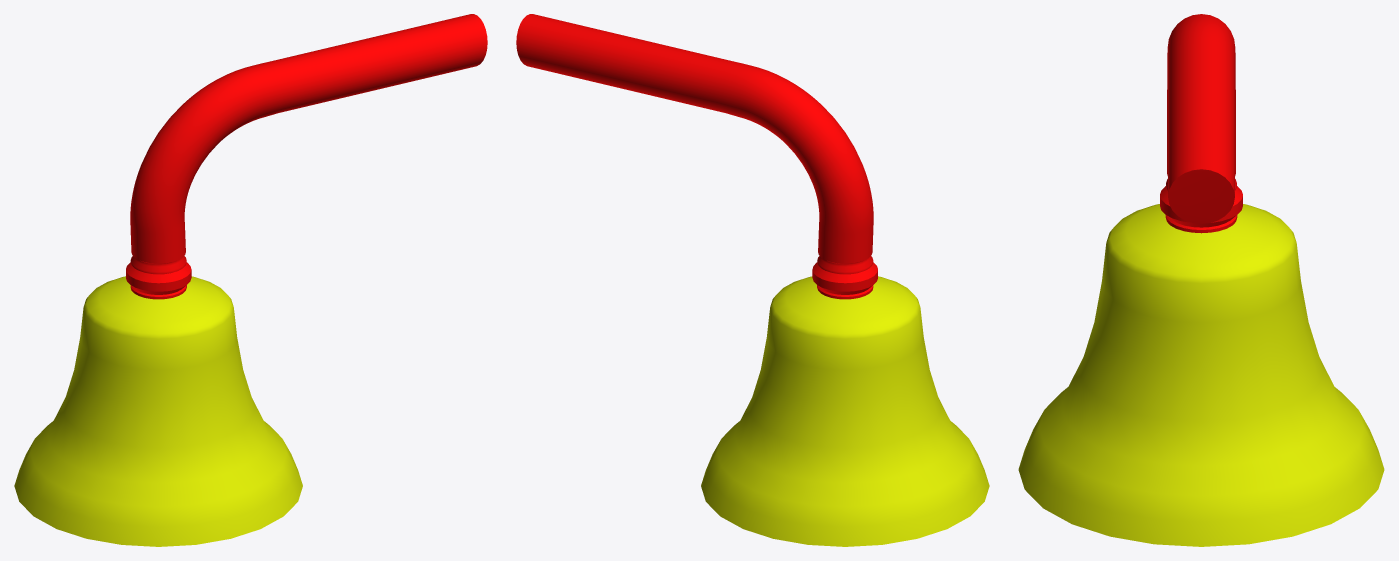
Rendered from bell (1).fbx.
The picture shows the model from 3 angles, left to right: view 1: azimuth 30°, elevation 25°; view 2: azimuth 150°, elevation 25°; view 3: azimuth 270°, elevation 25°; orthographic projection. The views are drawn at different scales.
Parts seen in each view (by area): view 1: Cylinder, Object001; view 2: Cylinder, Object001; view 3: Cylinder, Object001.
Boxes of the visible parts, <box> form: Cylinder: <box>14,276,302,546</box>; Object001: <box>126,14,487,299</box>; Cylinder: <box>701,276,989,546</box>; Object001: <box>516,14,877,299</box>; Cylinder: <box>1018,204,1384,546</box>; Object001: <box>1160,14,1242,233</box>.
Size of the model in its own units: 259 by 220 by 146.
